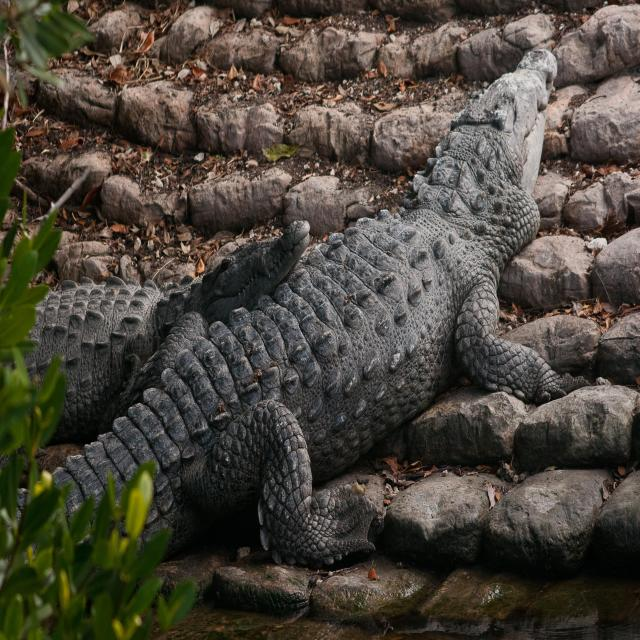crocodile: (0, 8, 591, 613)
